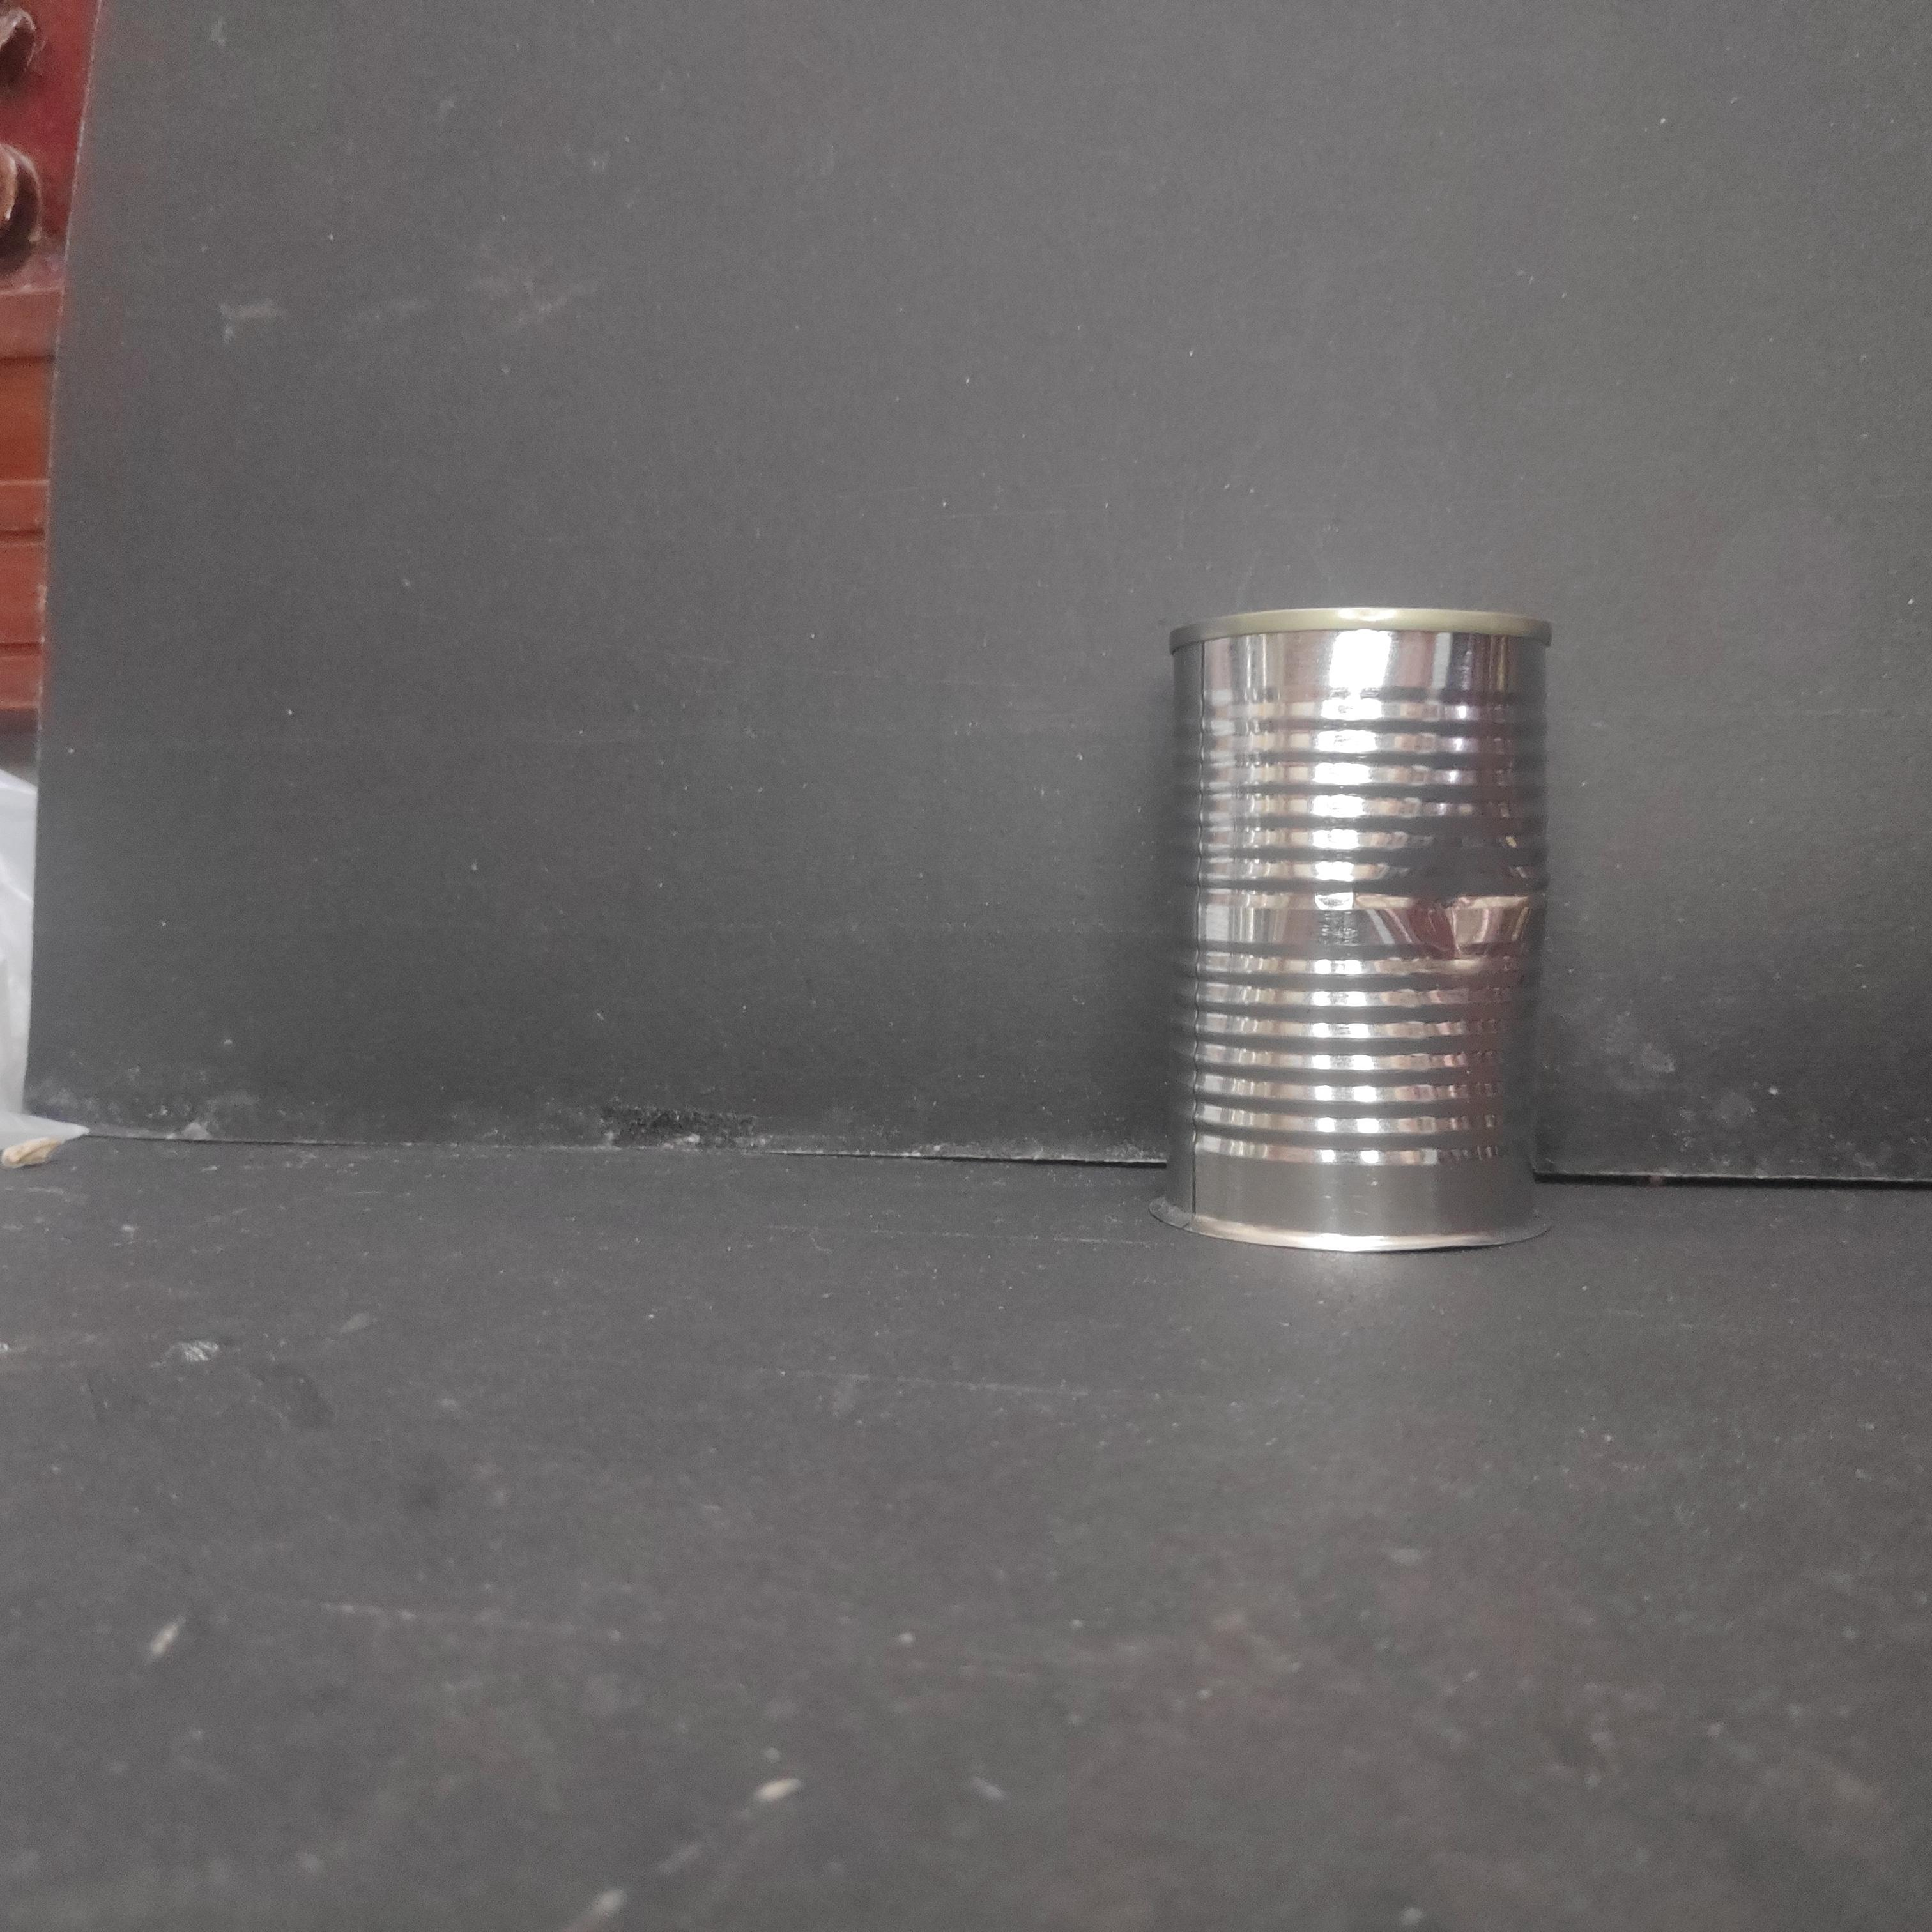Minor Defect: (1157, 594, 1569, 1283)
